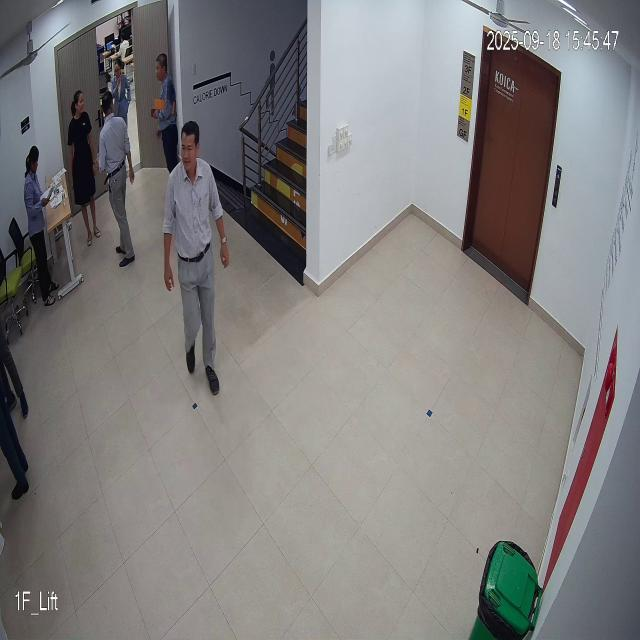face: (178, 119, 201, 175)
